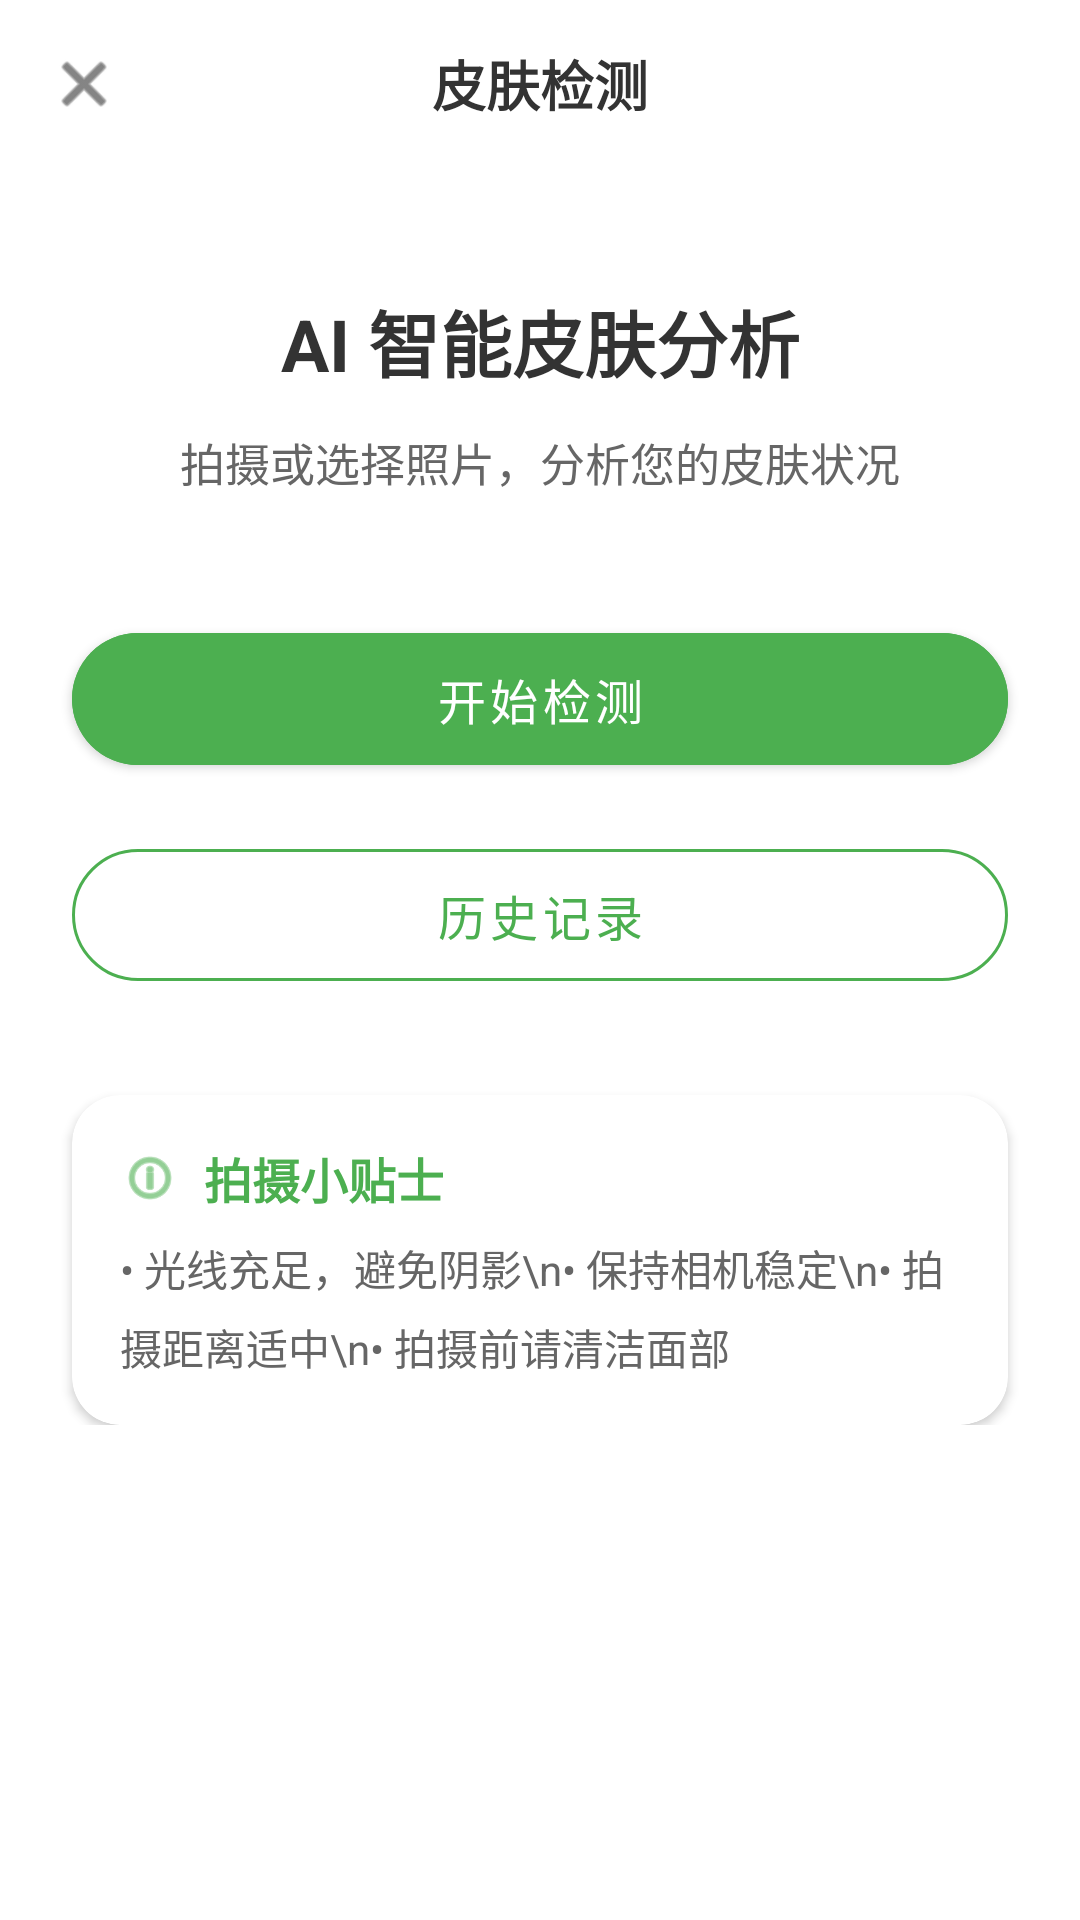

Where to tap for icons on this 1080 x 1920 app screen, as (x=x, y=y):
close clear cancel: (x=84, y=84)
info details: (x=150, y=1178)
